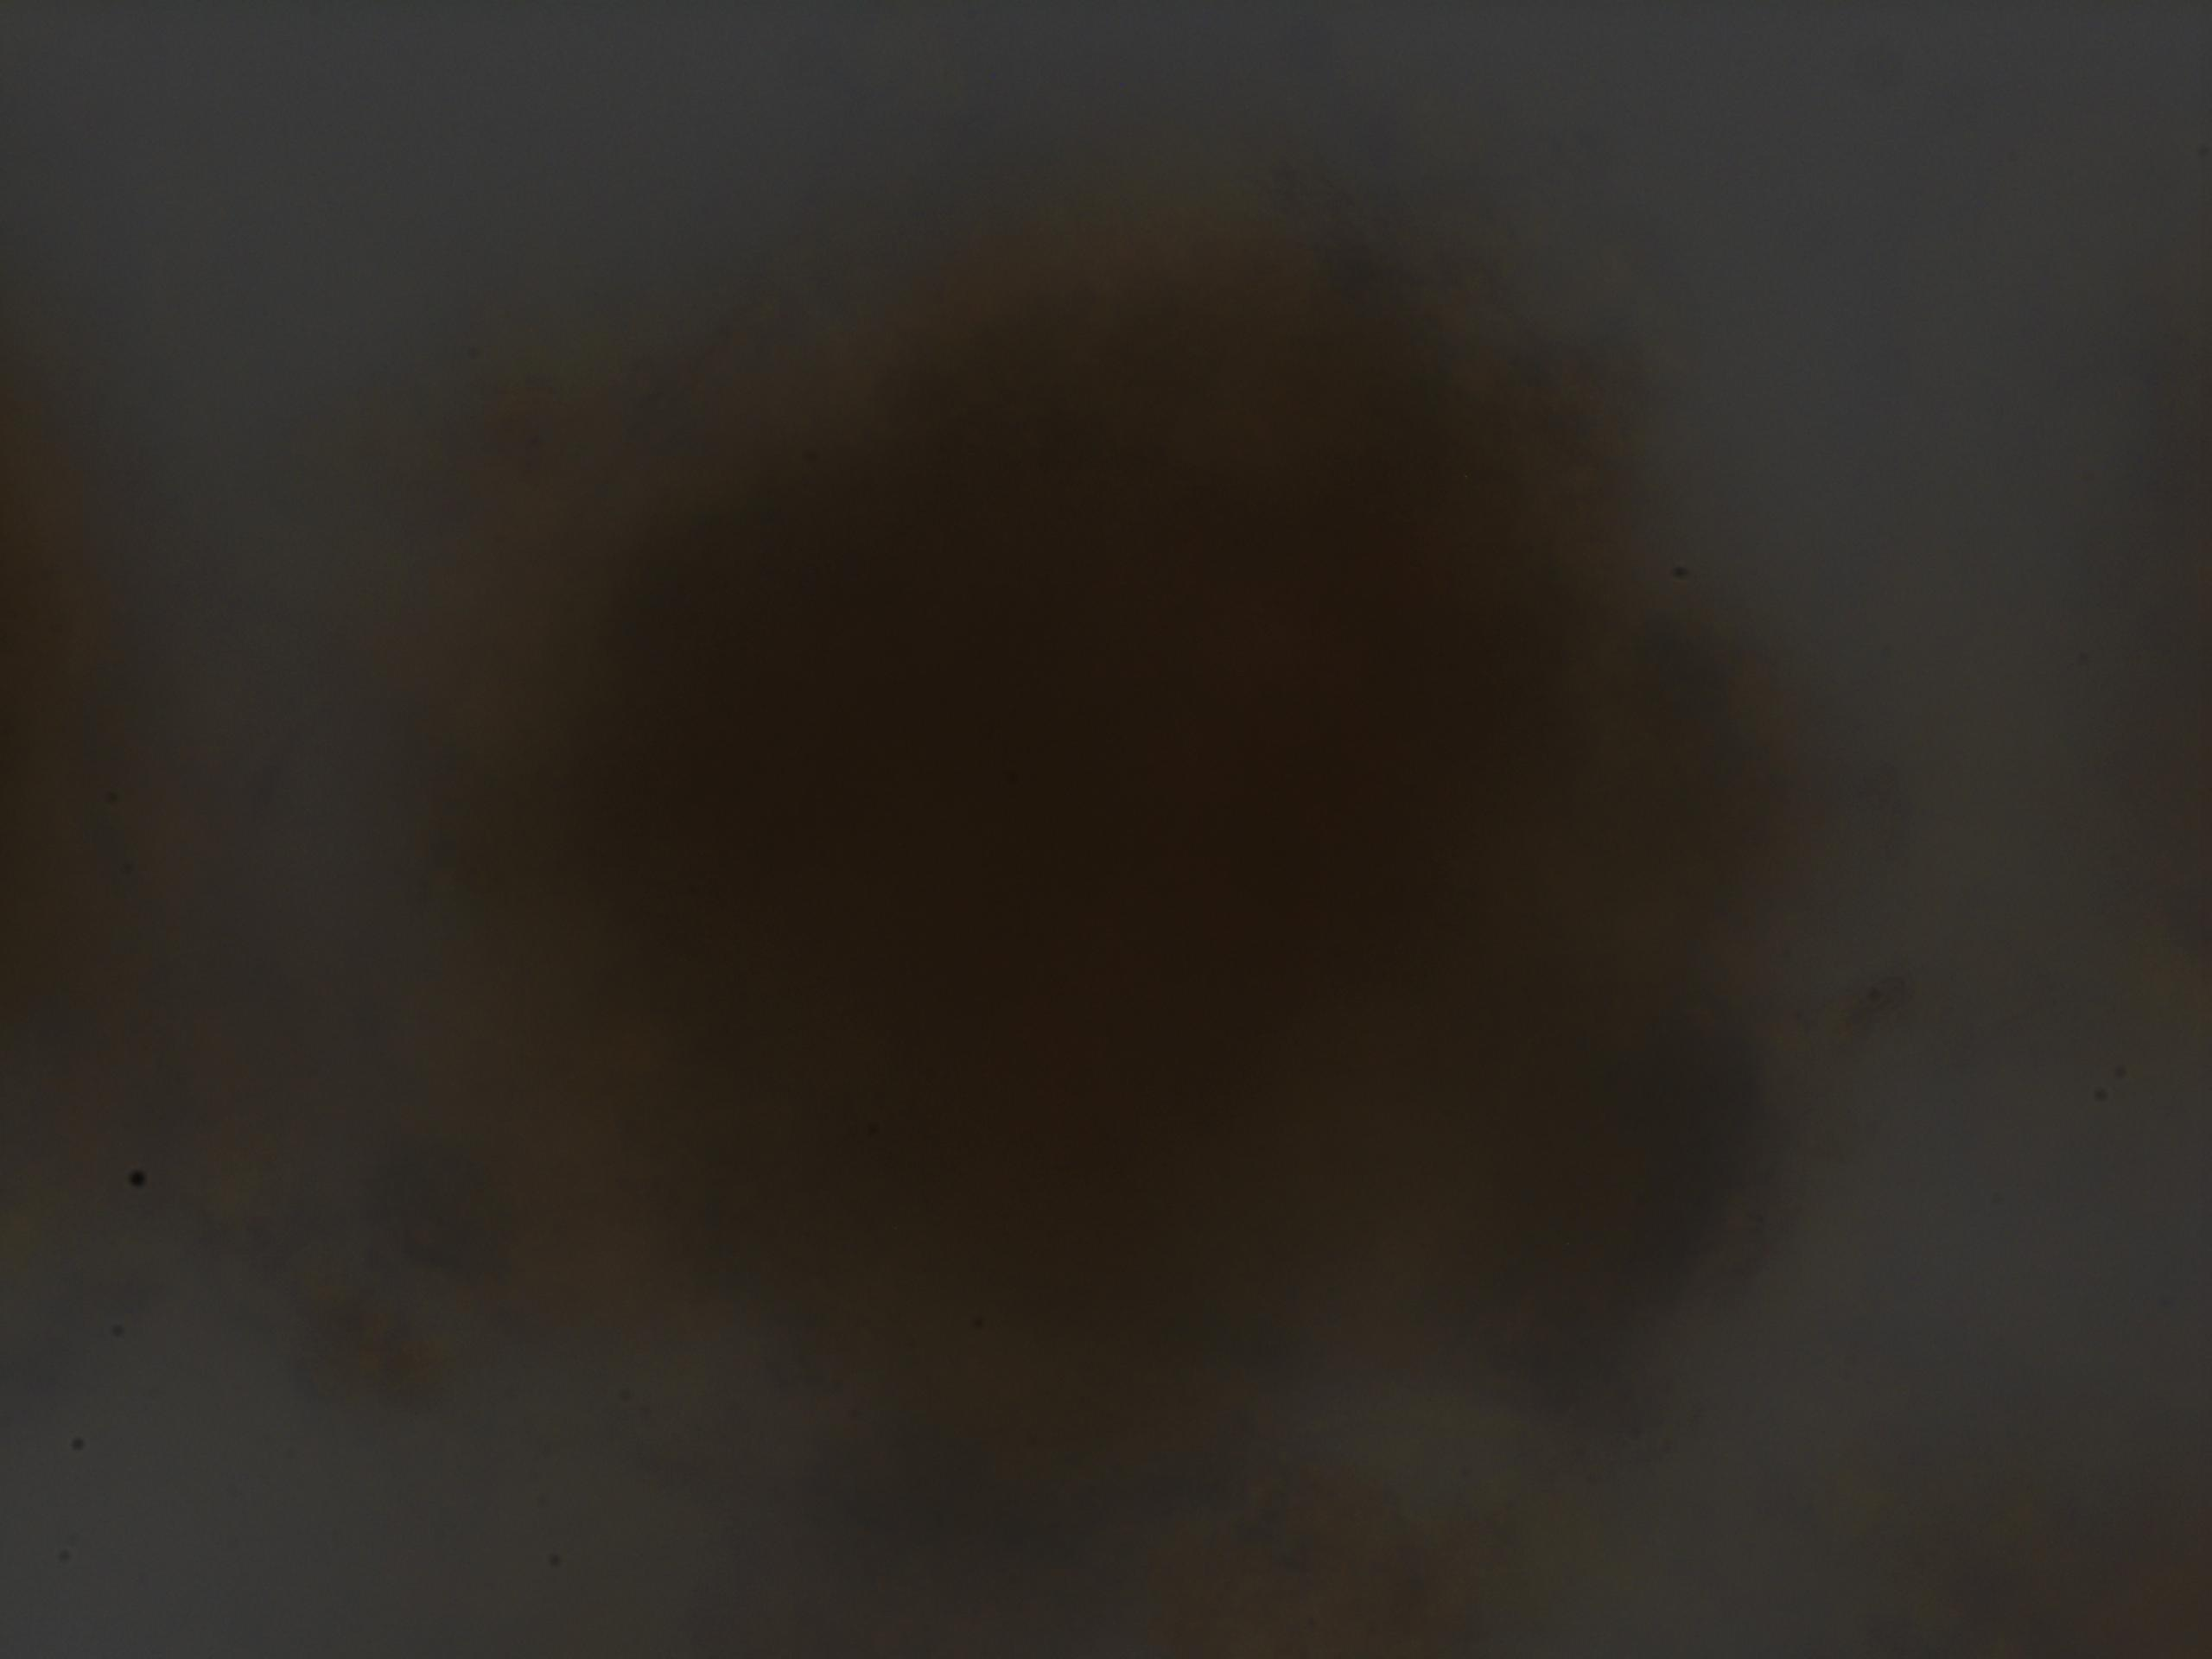spherical_floc: (465, 195, 1836, 1495)
